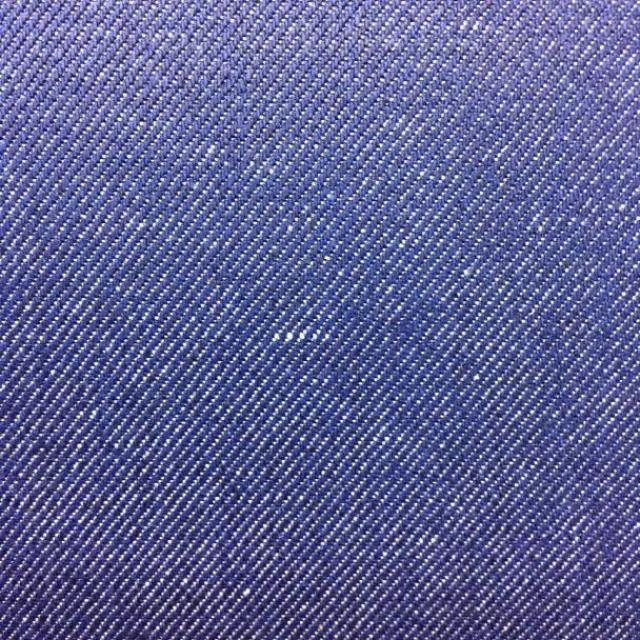Knot: (272, 326, 332, 346)
